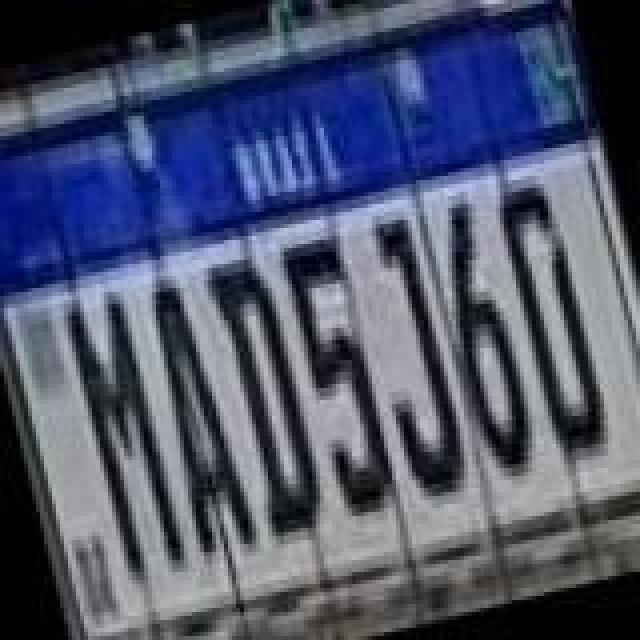5: (280, 234, 408, 518)
6: (418, 190, 542, 482)
A: (132, 274, 260, 558)
D: (206, 254, 338, 546), (488, 178, 616, 462)
J: (350, 212, 482, 508)
M: (58, 284, 190, 580)
